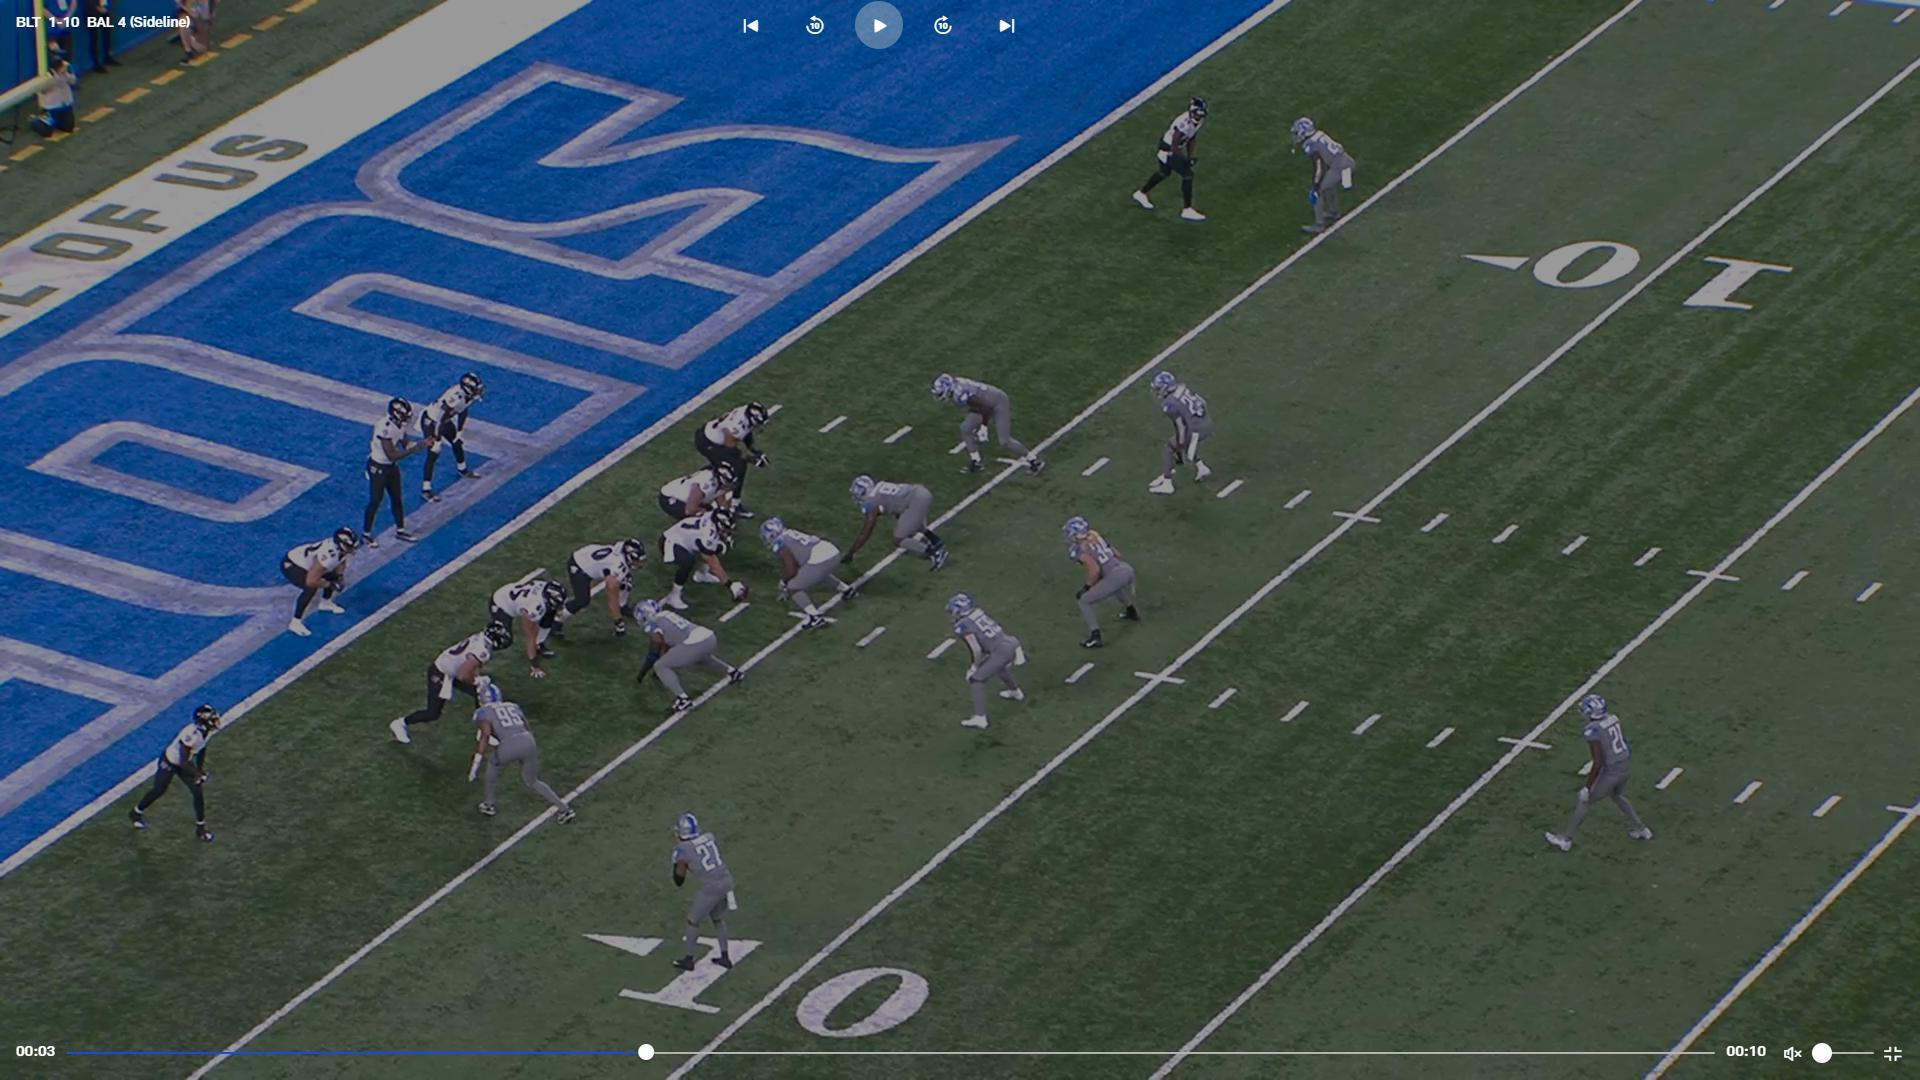player: (1557, 687, 1665, 858), (385, 619, 507, 751), (465, 680, 576, 824), (131, 699, 224, 846), (632, 594, 738, 714), (665, 810, 741, 974), (1060, 514, 1148, 653), (938, 368, 1044, 481), (954, 591, 1036, 734), (1124, 93, 1209, 223), (763, 516, 857, 632), (359, 395, 430, 546), (842, 467, 946, 569), (1137, 364, 1214, 499), (691, 400, 772, 522), (284, 523, 366, 643), (486, 563, 568, 682), (652, 463, 743, 568), (661, 514, 752, 612), (566, 541, 651, 644), (1289, 116, 1354, 242), (420, 371, 487, 490)
